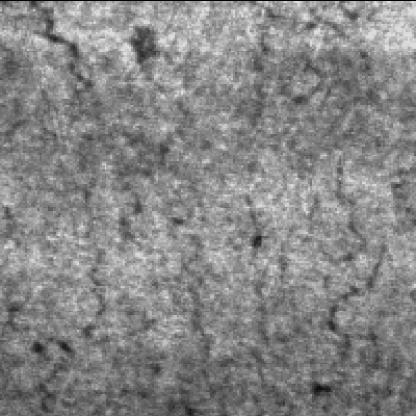crazing: (25, 6, 227, 416), (245, 142, 385, 410)
